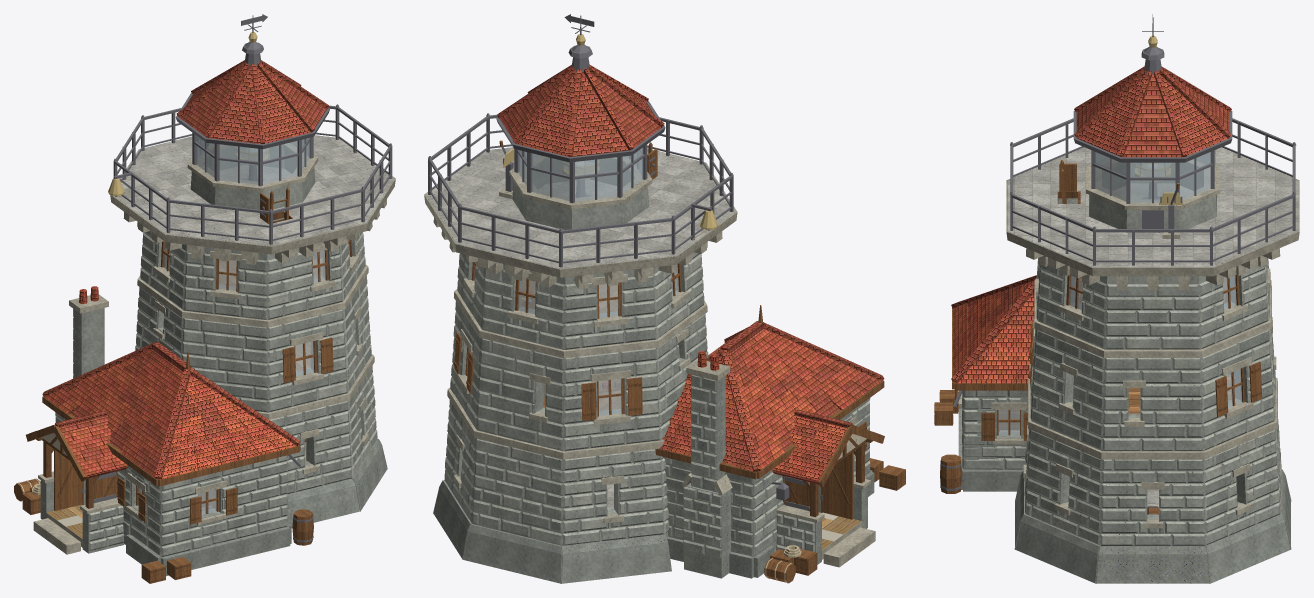
Rendered from lastlight.glb.
3 views of the same model, side by side, from view 1: azimuth 30°, elevation 25°; view 2: azimuth 150°, elevation 25°; view 3: azimuth 270°, elevation 25° (orthographic). The views are drawn at different scales.
Parts seen in each view (by area): view 1: Lastlight_Roof, Lastlight_UpperShellKeeper, Lastlight_ShellWing, Lastlight_UpperFloorGalleryTiles, Lastlight_UpperShellWatch, Lastlight_UpperGallery, Lastlight_ShellTower, Lastlight_UpperLantern, Lastlight_ShellPlinth, Lastlight_ShellPorch, Lastlight_GlazingLantern, Lastlight_UpperShellString (+7 smaller); view 2: Lastlight_Roof, Lastlight_UpperShellKeeper, Lastlight_ShellTower, Lastlight_UpperFloorGalleryTiles, Lastlight_UpperShellWatch, Lastlight_UpperGallery, Lastlight_ShellPlinth, Lastlight_UpperLantern, Lastlight_ShellWing, Lastlight_UpperShellString, Lastlight_GlazingLantern, Lastlight_ShellPorch (+6 smaller); view 3: Lastlight_UpperShellKeeper, Lastlight_ShellTower, Lastlight_Roof, Lastlight_UpperFloorGalleryTiles, Lastlight_UpperShellWatch, Lastlight_ShellPlinth, Lastlight_UpperGallery, Lastlight_UpperLantern, Lastlight_ShellWing, Lastlight_UpperShellString, Lastlight_GlazingLantern, Lastlight_Yard (+5 smaller).
Boxes of the visible parts, x1=… form: Lastlight_Roof: x1=26, y1=14, x2=329, y2=486; Lastlight_UpperShellKeeper: x1=135, y1=252, x2=371, y2=412; Lastlight_ShellWing: x1=55, y1=412, x2=291, y2=576; Lastlight_UpperFloorGalleryTiles: x1=114, y1=135, x2=394, y2=245; Lastlight_UpperShellWatch: x1=140, y1=231, x2=365, y2=320; Lastlight_UpperGallery: x1=108, y1=104, x2=395, y2=264; Lastlight_ShellTower: x1=270, y1=366, x2=377, y2=494; Lastlight_UpperLantern: x1=187, y1=133, x2=318, y2=209; Lastlight_ShellPlinth: x1=287, y1=439, x2=387, y2=527; Lastlight_ShellPorch: x1=36, y1=437, x2=124, y2=553; Lastlight_GlazingLantern: x1=196, y1=135, x2=310, y2=184; Lastlight_UpperShellString: x1=137, y1=265, x2=374, y2=419; Lastlight_Roof: x1=496, y1=14, x2=884, y2=578; Lastlight_UpperShellKeeper: x1=450, y1=301, x2=708, y2=451; Lastlight_ShellTower: x1=444, y1=400, x2=669, y2=545; Lastlight_UpperFloorGalleryTiles: x1=425, y1=147, x2=735, y2=268; Lastlight_UpperShellWatch: x1=457, y1=252, x2=704, y2=349; Lastlight_UpperGallery: x1=424, y1=113, x2=737, y2=289; Lastlight_ShellPlinth: x1=433, y1=480, x2=671, y2=583; Lastlight_UpperLantern: x1=509, y1=144, x2=652, y2=229; Lastlight_ShellWing: x1=664, y1=398, x2=874, y2=578; Lastlight_UpperShellString: x1=447, y1=289, x2=707, y2=459; Lastlight_GlazingLantern: x1=518, y1=148, x2=643, y2=201; Lastlight_ShellPorch: x1=776, y1=438, x2=872, y2=564; Lastlight_UpperShellKeeper: x1=1029, y1=317, x2=1276, y2=451; Lastlight_ShellTower: x1=1023, y1=419, x2=1281, y2=546; Lastlight_Roof: x1=951, y1=14, x2=1232, y2=390; Lastlight_UpperFloorGalleryTiles: x1=1007, y1=147, x2=1298, y2=266; Lastlight_UpperShellWatch: x1=1035, y1=200, x2=1270, y2=349; Lastlight_ShellPlinth: x1=1014, y1=469, x2=1291, y2=583; Lastlight_UpperGallery: x1=1006, y1=118, x2=1299, y2=290; Lastlight_UpperLantern: x1=1086, y1=150, x2=1219, y2=232; Lastlight_ShellWing: x1=954, y1=390, x2=1027, y2=491; Lastlight_UpperShellString: x1=1028, y1=280, x2=1277, y2=459; Lastlight_GlazingLantern: x1=1095, y1=152, x2=1210, y2=202; Lastlight_Yard: x1=934, y1=390, x2=962, y2=493.
Size of the model in its own units: 11.98 by 15.4 by 10.04.
Materials: 32 (21 with a texture image).
